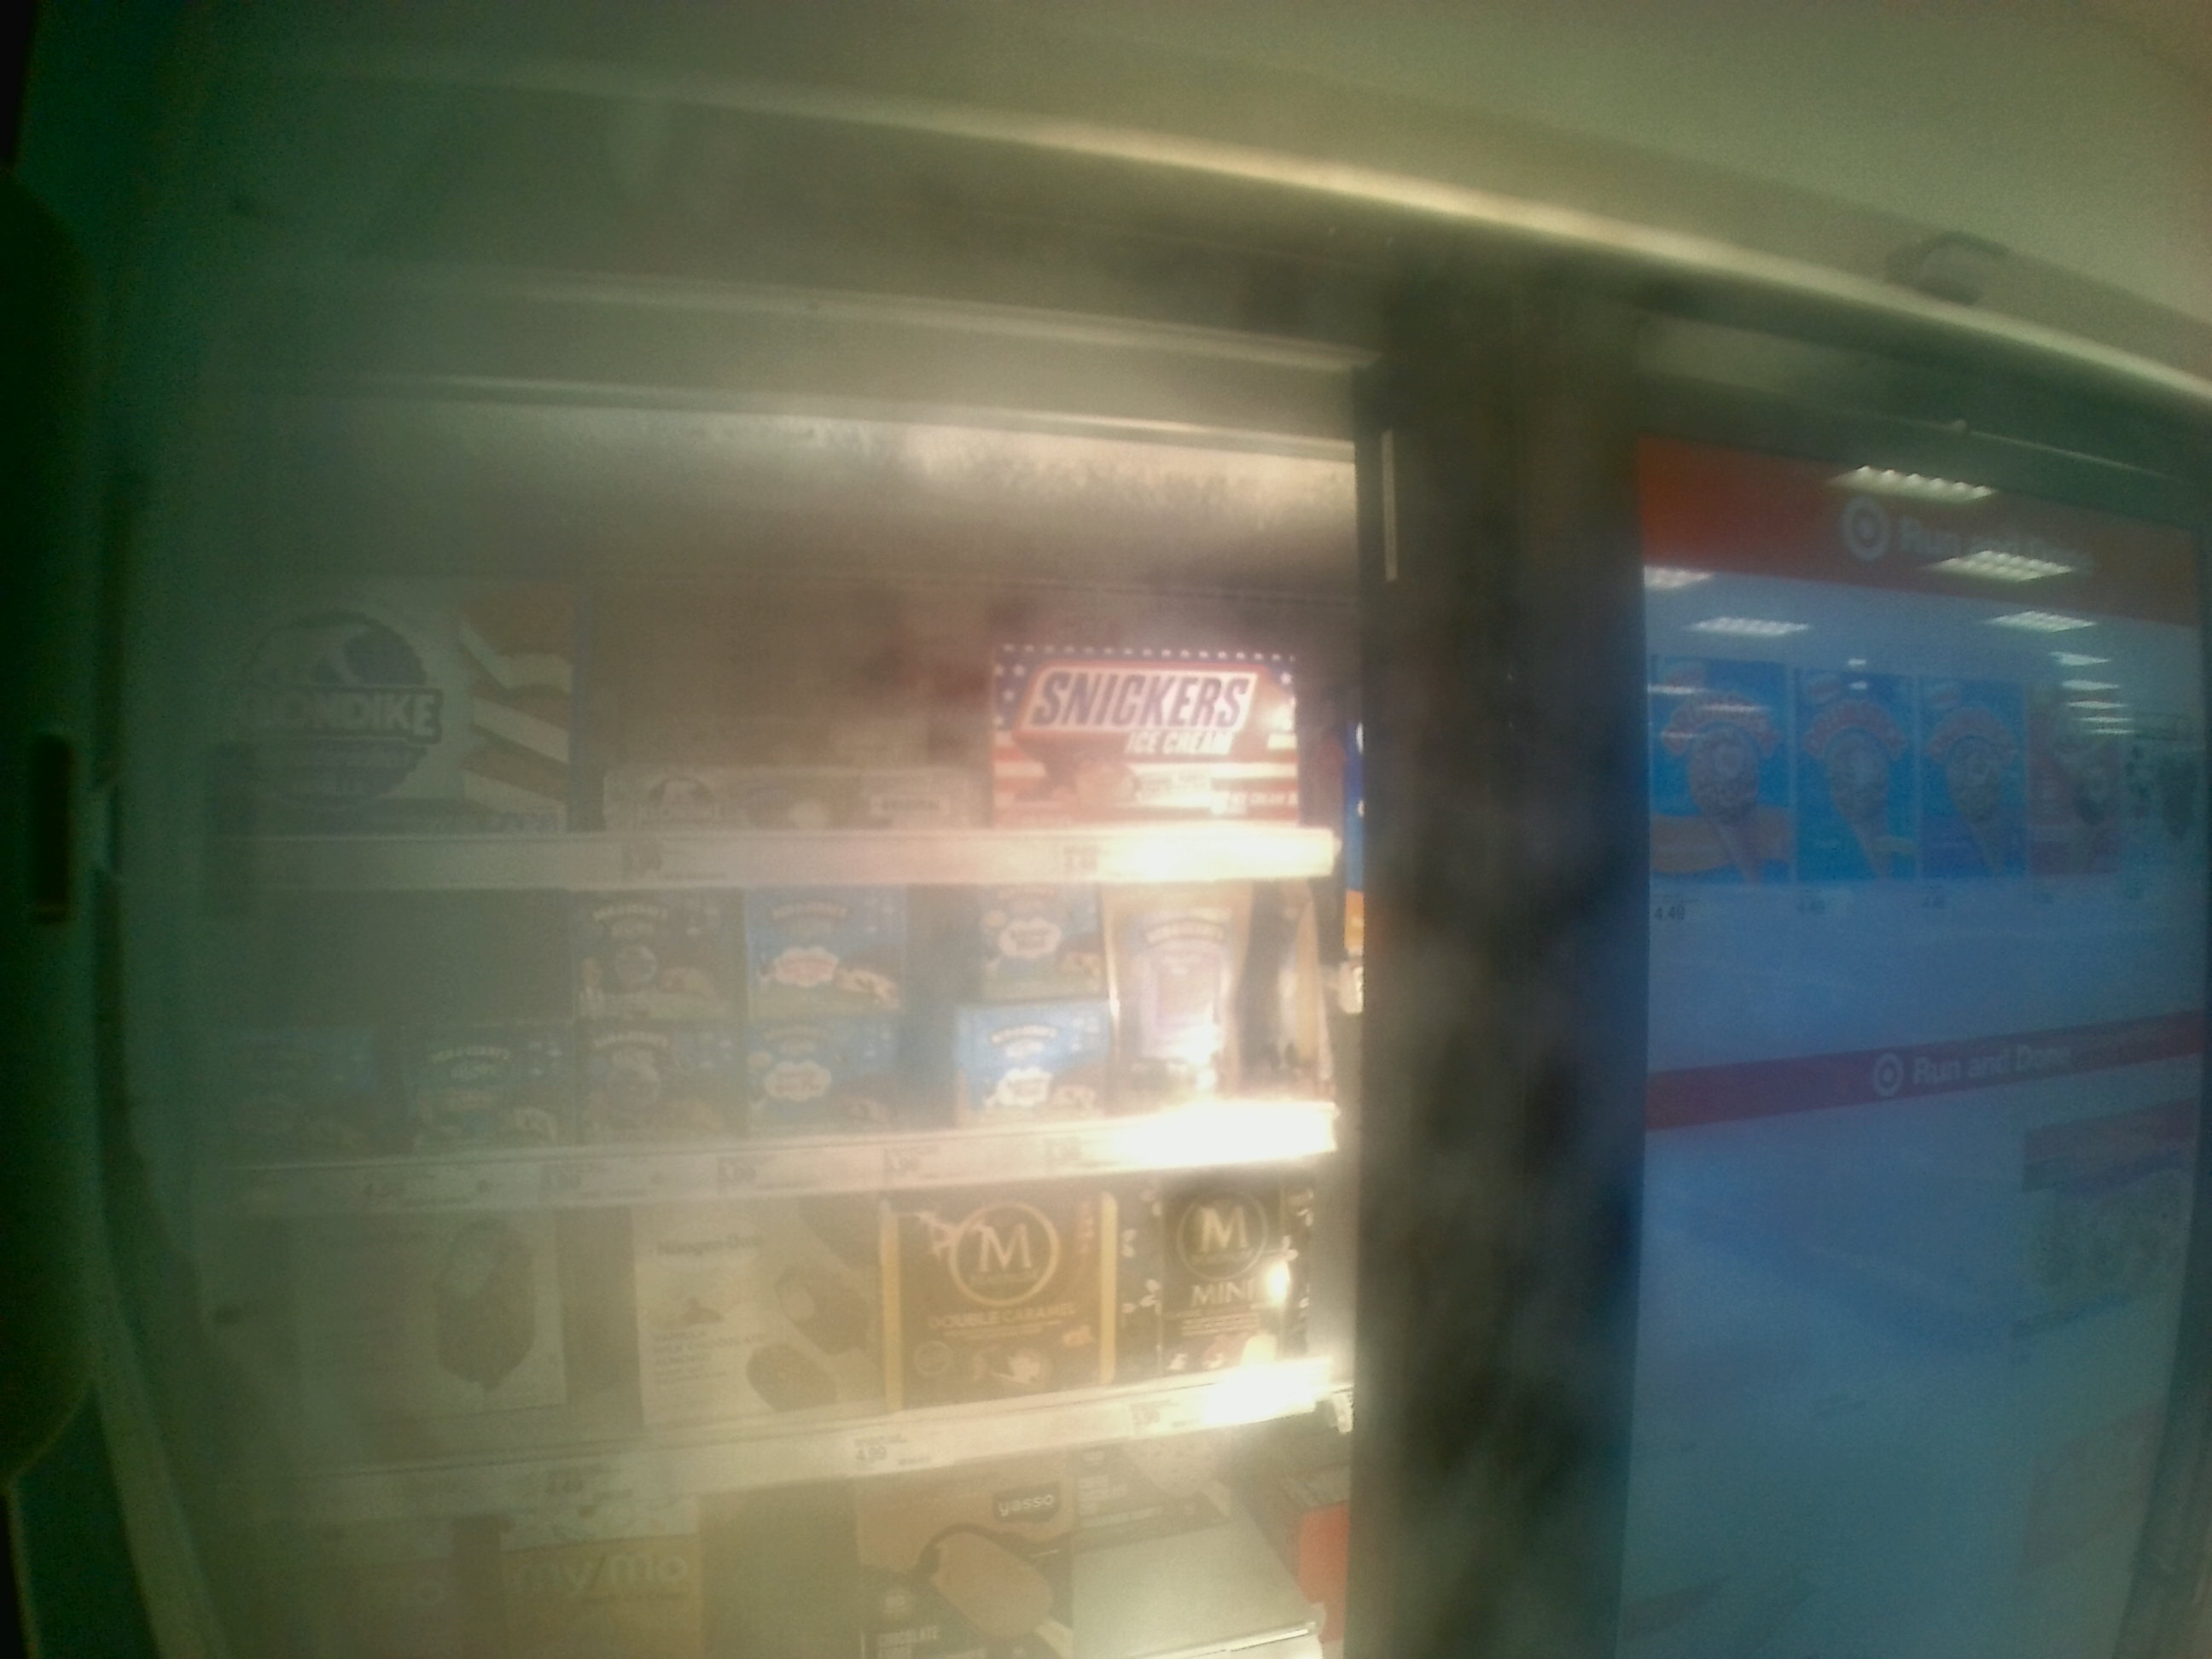shelf: (193, 472, 1348, 882), (190, 877, 1359, 1225)
